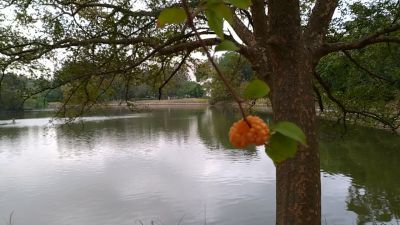eggs: (227, 114, 271, 149)
